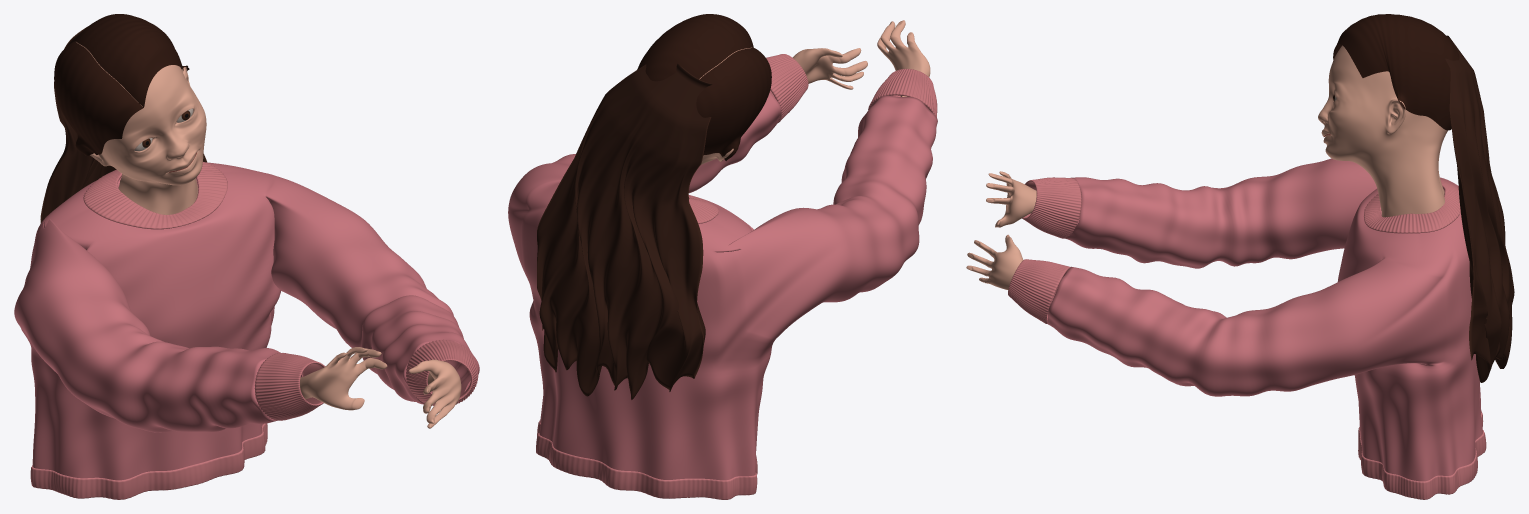
File: character.glb
3 renders of one model, left to right at view 1: azimuth 30°, elevation 25°; view 2: azimuth 150°, elevation 25°; view 3: azimuth 270°, elevation 25°, orthographic. The views are drawn at different scales.
Parts seen in each view (by area): view 1: Sweater • torso and continuous set-in sleeves, Face, ears and neck • continuous sculpt, Scalp underlayer • left sweep, Scalp underlayer • right sweep, Sweater hem • ribbed welt, Crew neck • raised ribbed binding, Ribbed cuff • image left, Relaxed hand • image left, Nape and back • layered hair volume, Ribbed cuff • image right, Relaxed hand • image right; view 2: Sweater • torso and continuous set-in sleeves, Nape and back • layered hair volume, Scalp underlayer • left sweep, Scalp underlayer • right sweep, Sweater hem • ribbed welt, Relaxed hand • image right, Ribbed cuff • image right, Ribbed cuff • image left, Relaxed hand • image left, Crew neck • raised ribbed binding; view 3: Sweater • torso and continuous set-in sleeves, Face, ears and neck • continuous sculpt, Nape and back • layered hair volume, Scalp underlayer • right sweep, Ribbed cuff • image left, Sweater hem • ribbed welt, Ribbed cuff • image right, Crew neck • raised ribbed binding, Relaxed hand • image right, Relaxed hand • image left.
Part boxes in pixels (<box>): Sweater • torso and continuous set-in sleeves: <box>14,162,479,480</box>; Face, ears and neck • continuous sculpt: <box>76,42,206,214</box>; Scalp underlayer • left sweep: <box>54,41,143,155</box>; Scalp underlayer • right sweep: <box>75,14,189,107</box>; Sweater hem • ribbed welt: <box>30,423,267,499</box>; Crew neck • raised ribbed binding: <box>83,162,227,229</box>; Ribbed cuff • image left: <box>254,352,325,420</box>; Relaxed hand • image left: <box>300,347,387,410</box>; Nape and back • layered hair volume: <box>40,26,206,223</box>; Ribbed cuff • image right: <box>406,339,478,405</box>; Relaxed hand • image right: <box>409,359,461,428</box>; Sweater • torso and continuous set-in sleeves: <box>508,91,937,480</box>; Nape and back • layered hair volume: <box>537,63,712,399</box>; Scalp underlayer • left sweep: <box>696,47,771,160</box>; Scalp underlayer • right sweep: <box>637,14,753,81</box>; Sweater hem • ribbed welt: <box>536,420,757,499</box>; Relaxed hand • image right: <box>792,48,867,89</box>; Ribbed cuff • image right: <box>766,54,808,123</box>; Ribbed cuff • image left: <box>868,68,937,117</box>; Relaxed hand • image left: <box>877,20,930,96</box>; Crew neck • raised ribbed binding: <box>688,195,718,223</box>; Sweater • torso and continuous set-in sleeves: <box>1047,158,1482,481</box>; Face, ears and neck • continuous sculpt: <box>1318,45,1447,217</box>; Nape and back • layered hair volume: <box>1445,35,1514,382</box>; Scalp underlayer • right sweep: <box>1333,14,1459,130</box>; Ribbed cuff • image left: <box>1022,177,1081,238</box>; Sweater hem • ribbed welt: <box>1358,411,1486,499</box>; Ribbed cuff • image right: <box>1008,259,1070,323</box>; Crew neck • raised ribbed binding: <box>1364,179,1460,233</box>; Relaxed hand • image right: <box>966,234,1023,289</box>; Relaxed hand • image left: <box>986,171,1036,227</box>.
Size of the model in its own units: 0.5416 by 0.6552 by 0.7841.
